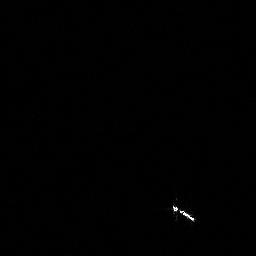ship: (169, 200, 199, 225)
